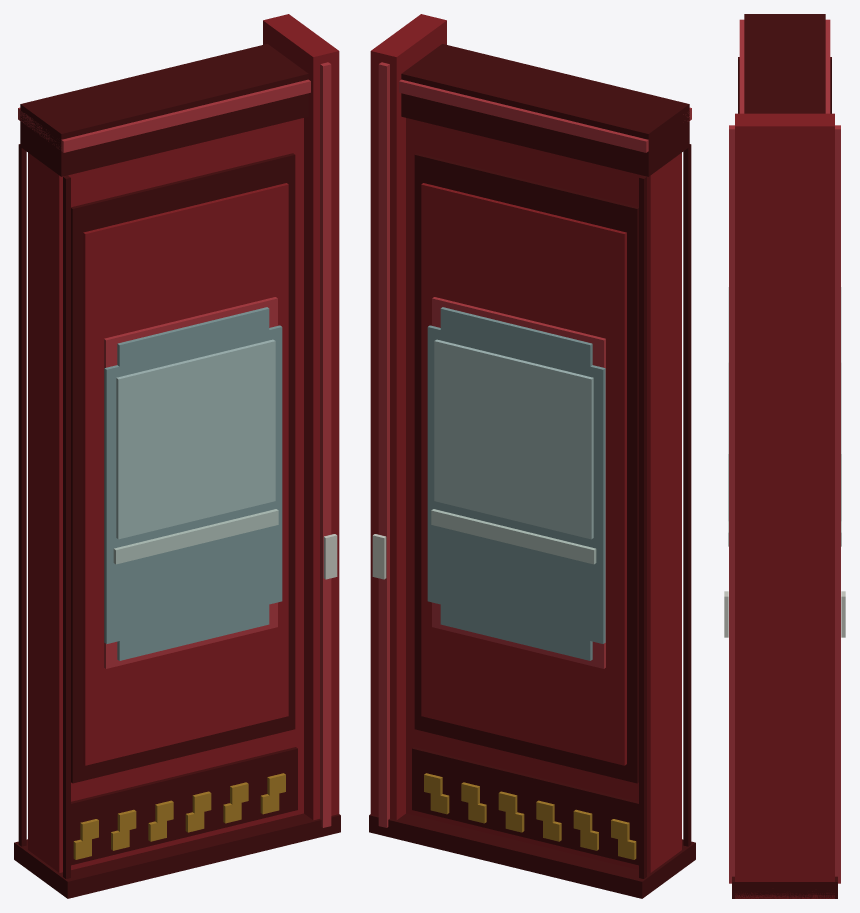
File: CMU3DPairedSecurityGlass.glb
3 renders of one model, left to right at view 1: azimuth 30°, elevation 25°; view 2: azimuth 150°, elevation 25°; view 3: azimuth 270°, elevation 25°, orthographic.
Parts seen in each view (by area): view 1: inner face panel, single closed door leaf, pale upper reflection, chamfered window center, outer door jamb, leaf recessed face, continuous top track, meeting edge seal (×2), lower hazard band, outer jamb highlight, threshold, top track lip (+5 smaller); view 2: inner face panel back, single closed door leaf, pale upper reflection back, chamfered window center back, outer door jamb, leaf recessed face back, continuous top track, meeting edge seal (×2), lower hazard band back, outer jamb highlight, threshold, chamfered window upper shoulder back (+5 smaller); view 3: outer door jamb, outer jamb highlight (×2), continuous top track, threshold, top track lip.
Part boxes in pixels (x1,y1,x2,y2): inner face panel: (83, 183, 288, 765); single closed door leaf: (28, 118, 303, 872); pale upper reflection: (116, 339, 275, 539); chamfered window center: (104, 325, 282, 643); outer door jamb: (263, 14, 339, 820); leaf recessed face: (71, 153, 295, 783); continuous top track: (20, 44, 308, 176); meeting edge seal (×2): (18, 144, 70, 878); lower hazard band: (71, 747, 297, 865); outer jamb highlight: (320, 62, 331, 827); threshold: (14, 813, 340, 898); top track lip: (18, 79, 310, 152); inner face panel back: (421, 183, 626, 765); single closed door leaf: (406, 118, 681, 872); pale upper reflection back: (434, 339, 593, 539); chamfered window center back: (427, 325, 605, 643); outer door jamb: (370, 14, 446, 820); leaf recessed face back: (414, 153, 638, 783); continuous top track: (401, 44, 689, 176); meeting edge seal (×2): (639, 144, 691, 878); lower hazard band back: (412, 747, 638, 865); outer jamb highlight: (378, 62, 389, 827); threshold: (369, 813, 695, 898); chamfered window upper shoulder back: (440, 307, 592, 366); outer door jamb: (735, 113, 834, 898); outer jamb highlight (×2): (729, 125, 840, 883); continuous top track: (744, 14, 825, 113); threshold: (732, 876, 837, 898); top track lip: (739, 19, 830, 113).
Size of the model in its own units: 1 by 2.73 by 0.388.
